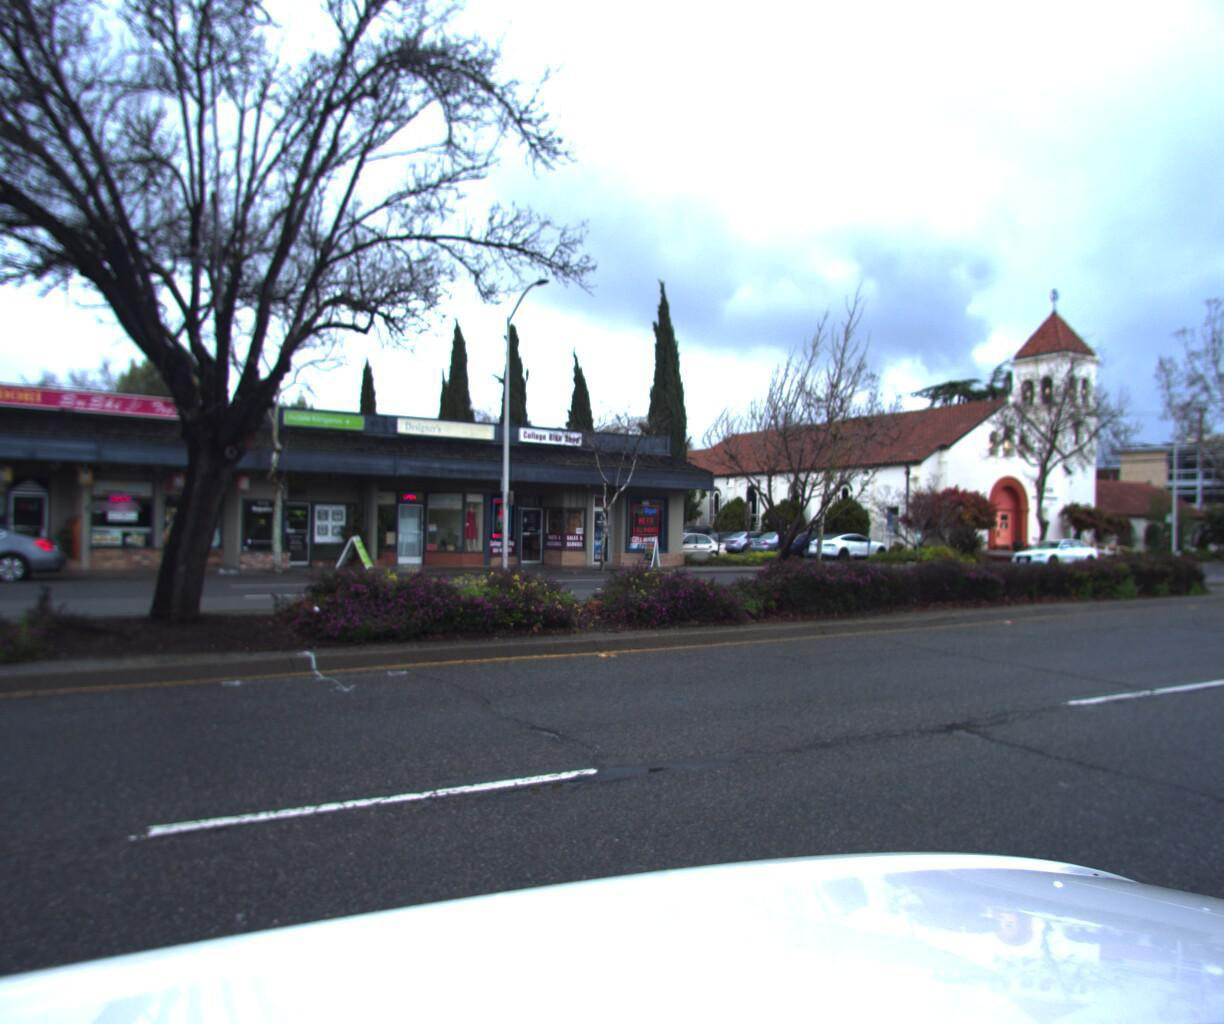car: (0, 527, 71, 600), (1000, 529, 1100, 559), (801, 525, 890, 555), (646, 526, 729, 550)
